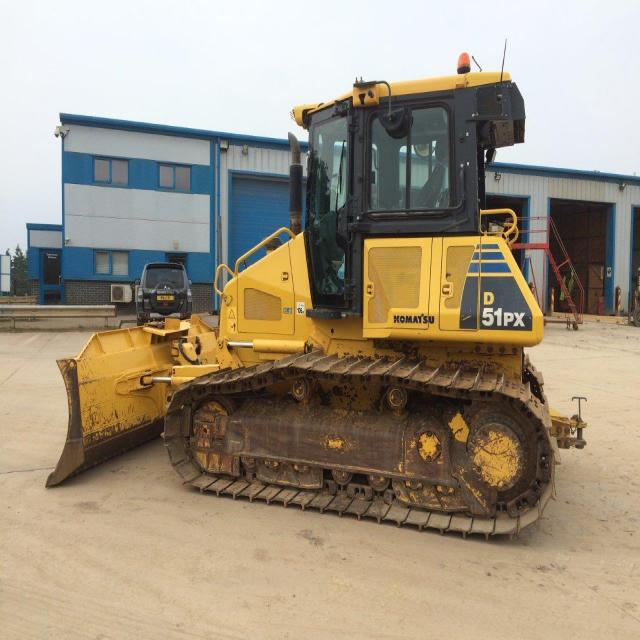Bulldozer: (46, 59, 609, 565)
